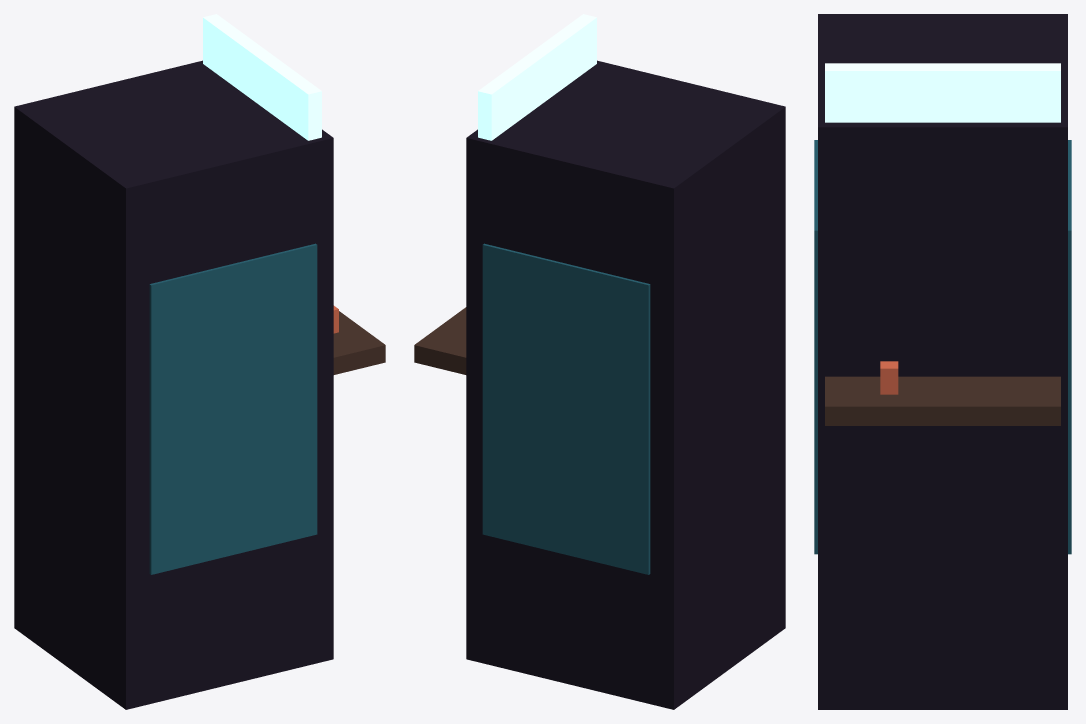
File: wall_1.glb
3 renders of one model, left to right at view 1: azimuth 30°, elevation 25°; view 2: azimuth 150°, elevation 25°; view 3: azimuth 270°, elevation 25°, orthographic. The views are drawn at different scales.
Parts seen in each view (by area): view 1: Box1, Box2, Box4, Box5; view 2: Box1, Box2, Box4, Box5; view 3: Box1, Box4, Box5, Box2, Box6.
Boxes of the visible parts, box(x1,y1,x2,y2) form: Box1: box(14, 60, 333, 709); Box2: box(149, 243, 317, 574); Box4: box(203, 14, 321, 140); Box5: box(333, 311, 385, 374); Box1: box(466, 60, 785, 709); Box2: box(482, 243, 650, 574); Box4: box(478, 14, 596, 140); Box5: box(414, 307, 466, 374); Box1: box(818, 14, 1067, 709); Box4: box(825, 63, 1060, 122); Box5: box(825, 376, 1060, 425); Box2: box(814, 140, 1071, 554); Box6: box(880, 361, 898, 394).
Bounding box in the file's own units: 0.95 × 1.96 × 0.72.
